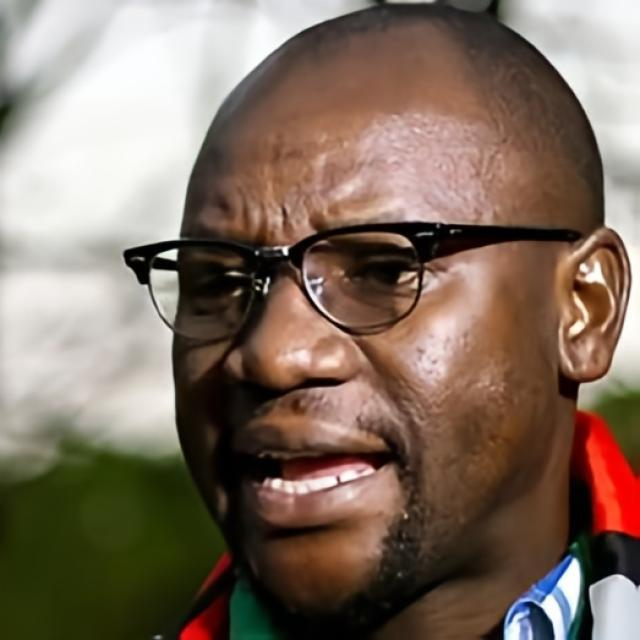disgust: (170, 81, 560, 608)
